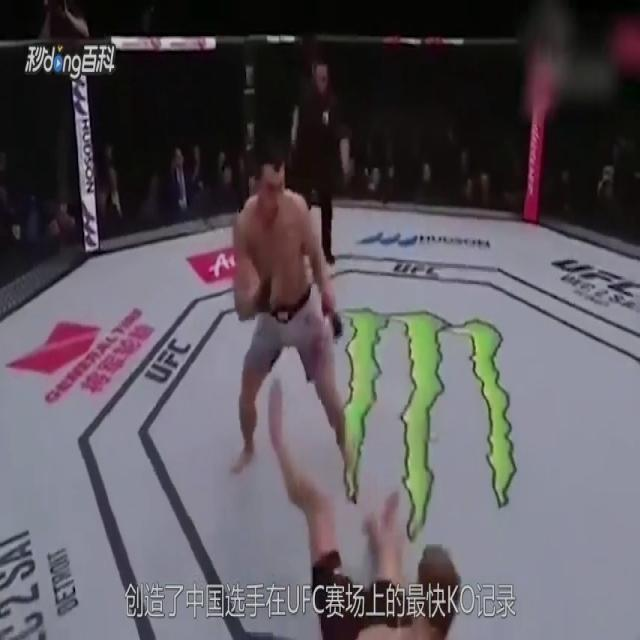fight: (209, 77, 467, 639)
